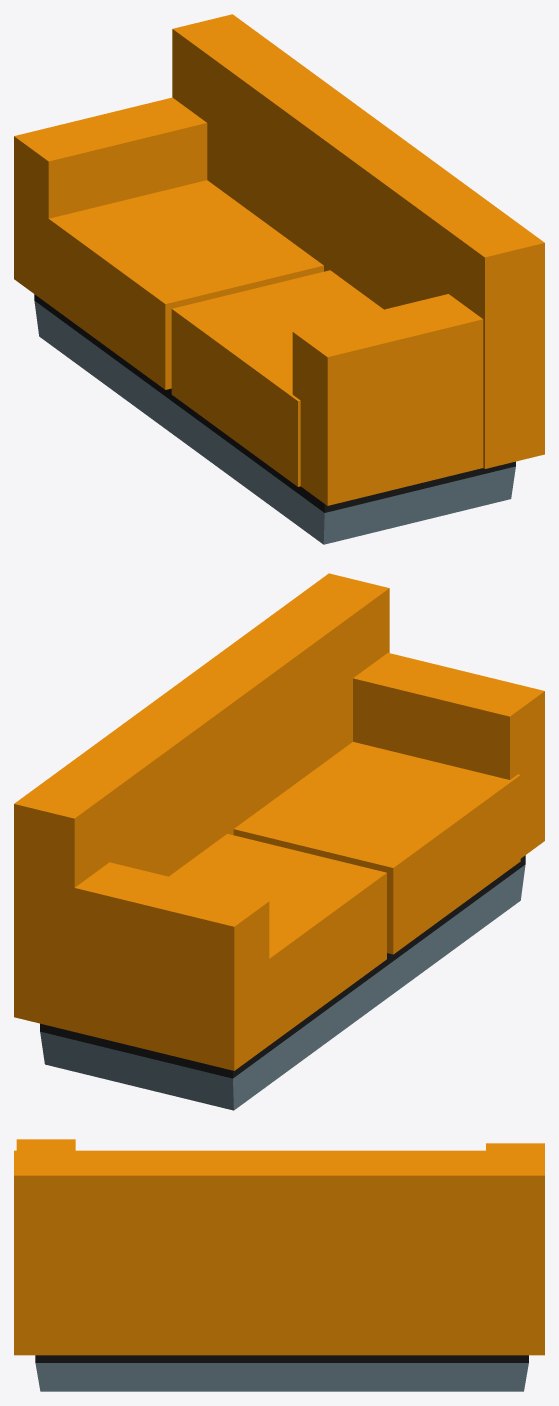
The model's file is Couch.fbx.
3 renders of one model, top to bottom at view 1: azimuth 30°, elevation 25°; view 2: azimuth 150°, elevation 25°; view 3: azimuth 270°, elevation 25°, orthographic. The views are drawn at different scales.
Parts seen in each view (by area): view 1: group_1778046054; view 2: group_1778046054; view 3: group_1778046054.
Boxes of the visible parts, box(x1,y1,x2,y2) form: group_1778046054: box(14, 14, 544, 544); group_1778046054: box(14, 573, 544, 1110); group_1778046054: box(14, 1139, 544, 1391).
Bounding box in the file's own units: 51.31 × 59.01 × 127.
